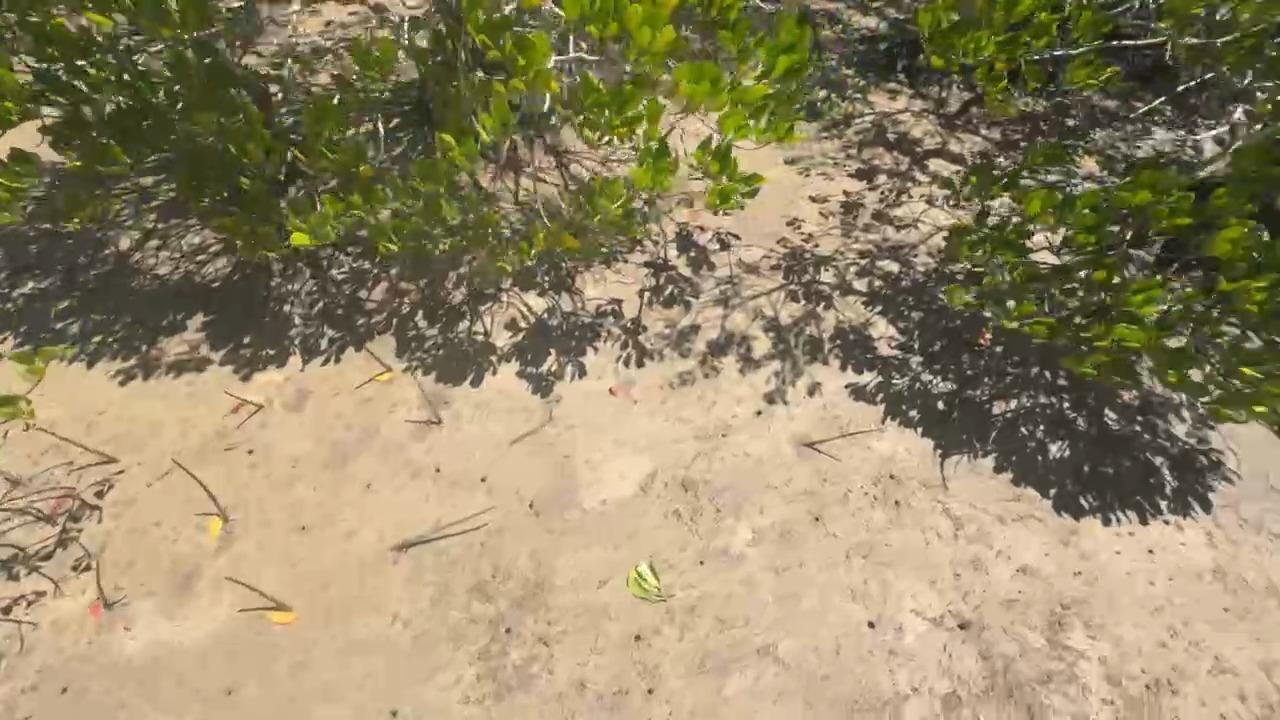Tree: (393, 507, 495, 550), (171, 458, 228, 523), (36, 429, 119, 462), (227, 575, 292, 611), (413, 372, 445, 424), (805, 426, 885, 446), (361, 345, 392, 369), (95, 556, 109, 605), (225, 391, 262, 407)
